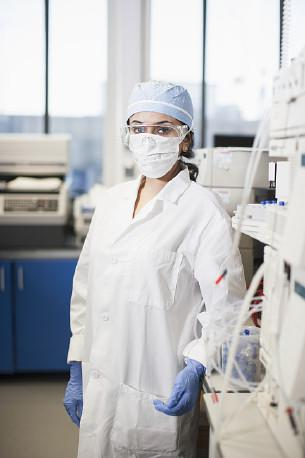OK: (125, 116, 187, 178)
